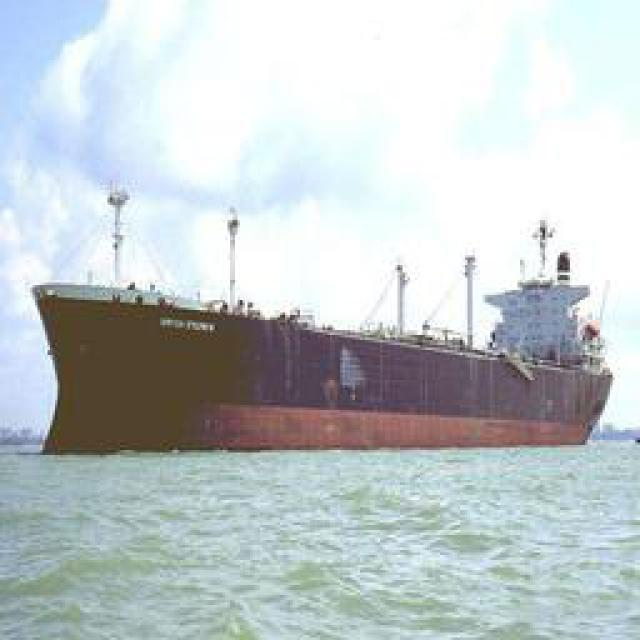Ship: (46, 218, 624, 456)
